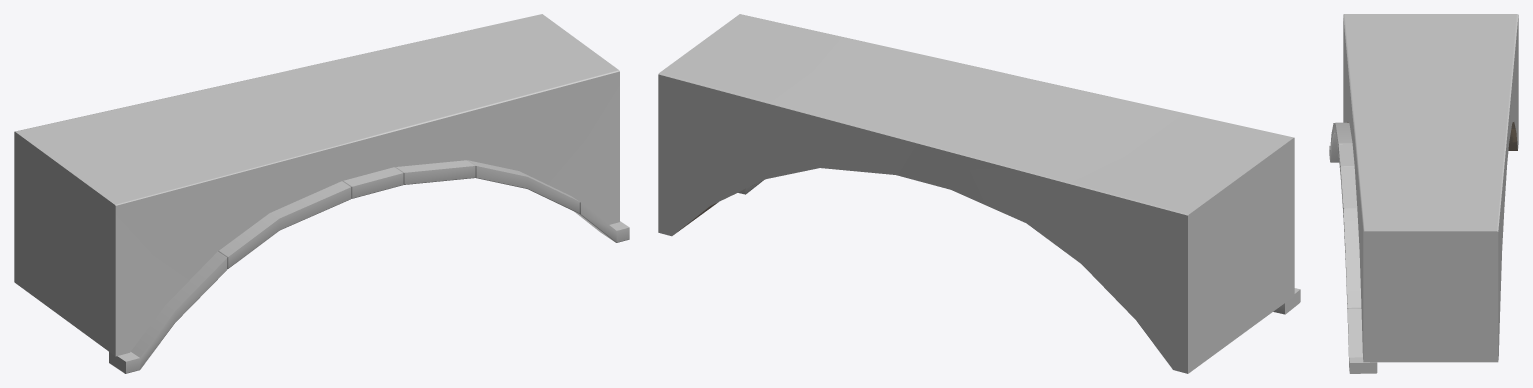
Rendered from OUT_Sec2_Ceiling-ang4_5.fbx.
The picture shows the model from 3 angles, left to right: view 1: azimuth 30°, elevation 25°; view 2: azimuth 150°, elevation 25°; view 3: azimuth 270°, elevation 25°; orthographic projection. The views are drawn at different scales.
Parts seen in each view (by area): view 1: OUT_Sec2_Ceiling-ang4'5; view 2: OUT_Sec2_Ceiling-ang4'5; view 3: OUT_Sec2_Ceiling-ang4'5.
Part boxes in pixels (x1,y1,x2,y2): OUT_Sec2_Ceiling-ang4'5: (14, 14, 629, 373); OUT_Sec2_Ceiling-ang4'5: (658, 14, 1300, 373); OUT_Sec2_Ceiling-ang4'5: (1329, 14, 1518, 373).
Bounding box in the file's own units: 13.71 × 4.15 × 5.01.
